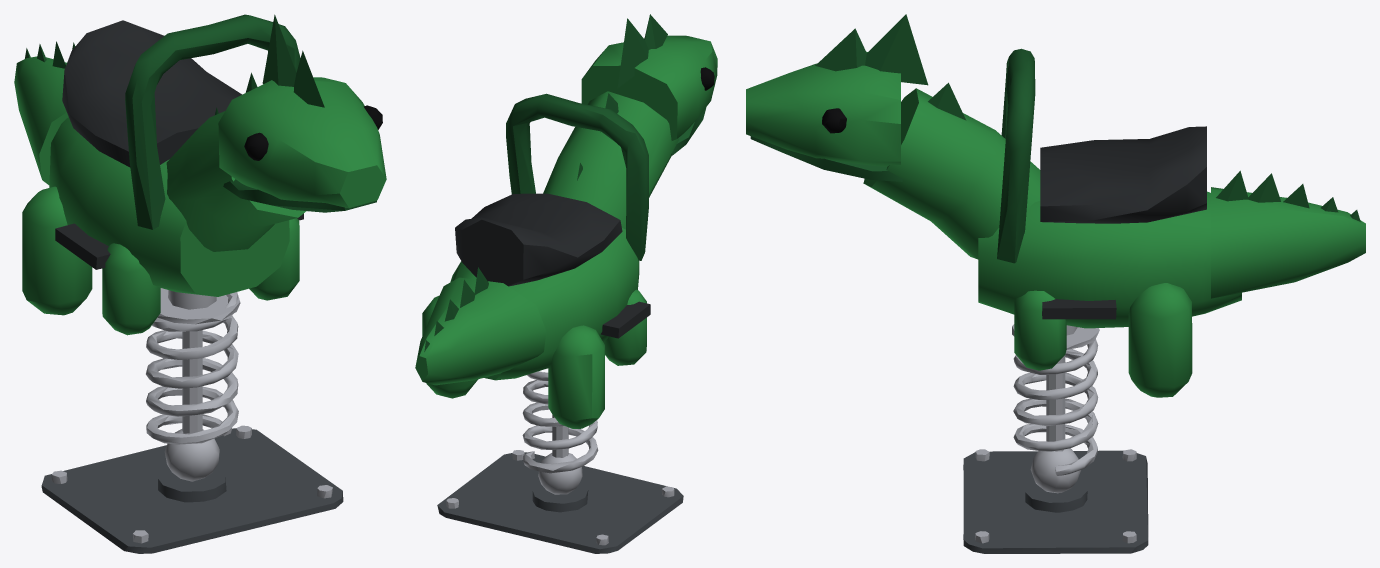
File: springrider.glb
3 views of the same model, side by side, from view 1: azimuth 30°, elevation 25°; view 2: azimuth 150°, elevation 25°; view 3: azimuth 270°, elevation 25° (orthographic). The views are drawn at different scales.
Parts seen in each view (by area): view 1: rider_body, base_plate, coil_spring; view 2: rider_body, base_plate, coil_spring; view 3: rider_body, base_plate, coil_spring.
Part boxes in pixels (x1,y1,x2,y2): rider_body: [14, 14, 386, 335]; base_plate: [41, 425, 343, 553]; coil_spring: [146, 288, 240, 481]; rider_body: [415, 14, 717, 428]; base_plate: [437, 450, 683, 553]; coil_spring: [522, 371, 598, 494]; rider_body: [746, 14, 1365, 397]; base_plate: [963, 449, 1148, 553]; coil_spring: [1012, 324, 1099, 493].
Size of the model in its own units: 0.2988 by 0.6994 by 0.8002.
